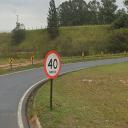speed_limit_40: (44, 50, 61, 80)
